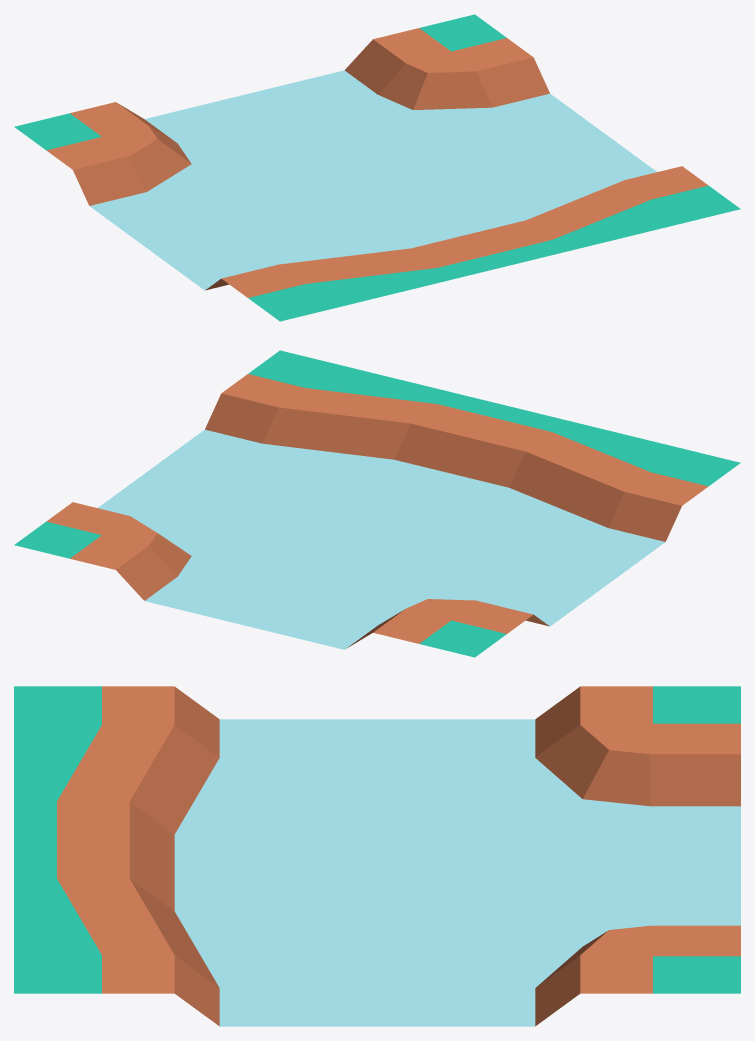
The model's file is ground_riverSplit.dae.
3 views of the same model, one above another, from view 1: azimuth 30°, elevation 25°; view 2: azimuth 150°, elevation 25°; view 3: azimuth 270°, elevation 25° (orthographic). The views are drawn at different scales.
Visible parts, largest first — view 1: ground_riverSplit; view 2: ground_riverSplit; view 3: ground_riverSplit.
Boxes of the visible parts, <box> form: ground_riverSplit: <box>14,14,740,321</box>; ground_riverSplit: <box>14,350,740,657</box>; ground_riverSplit: <box>14,686,740,1026</box>.
Size of the model in its own units: 1 by 0.05 by 1.
